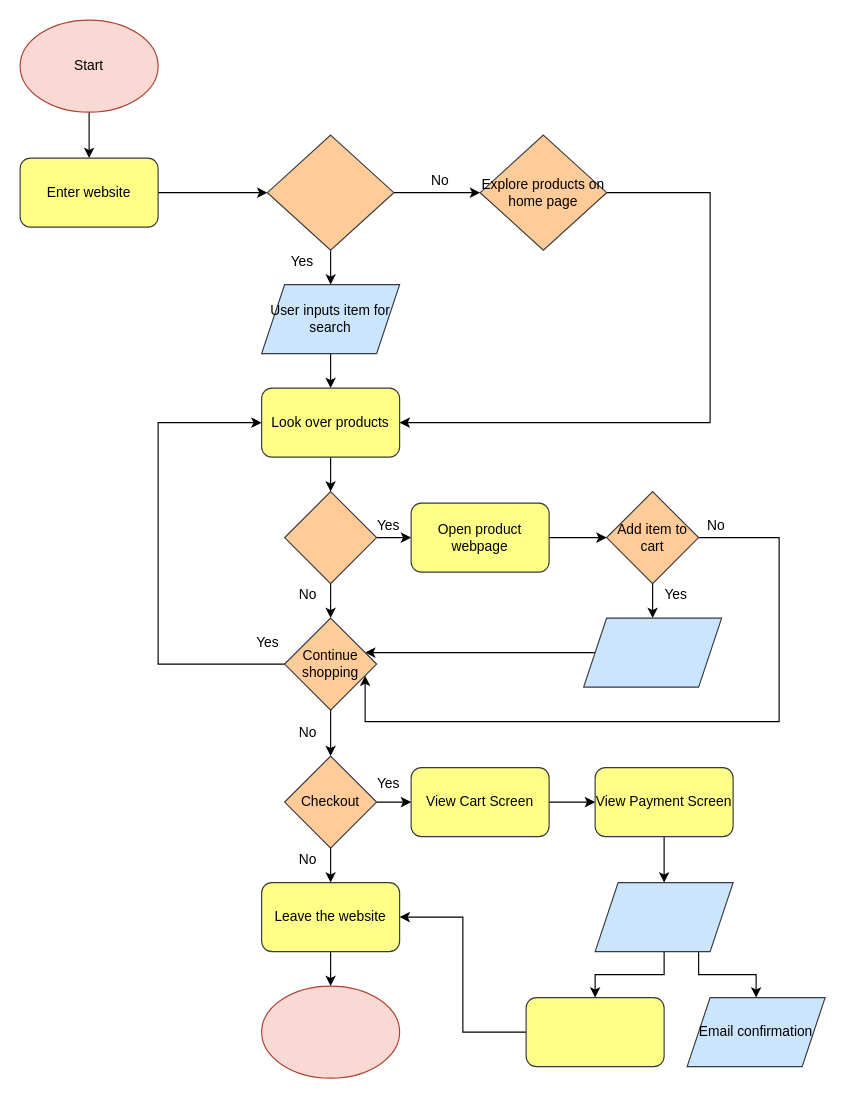
The diagram is 845 pixels wide and 1098 high, and some of its shapes have lost their labels. Each missing label, with the centre of its shape:
"Add to cart confirmation" belongs at point (652, 652).
"End" belongs at point (330, 1031).
"Order confirmation screen" belongs at point (594, 1031).
"Payment info" belongs at point (663, 916).
"Search for product" belongs at point (330, 192).
"View specific product" belongs at point (330, 537).
